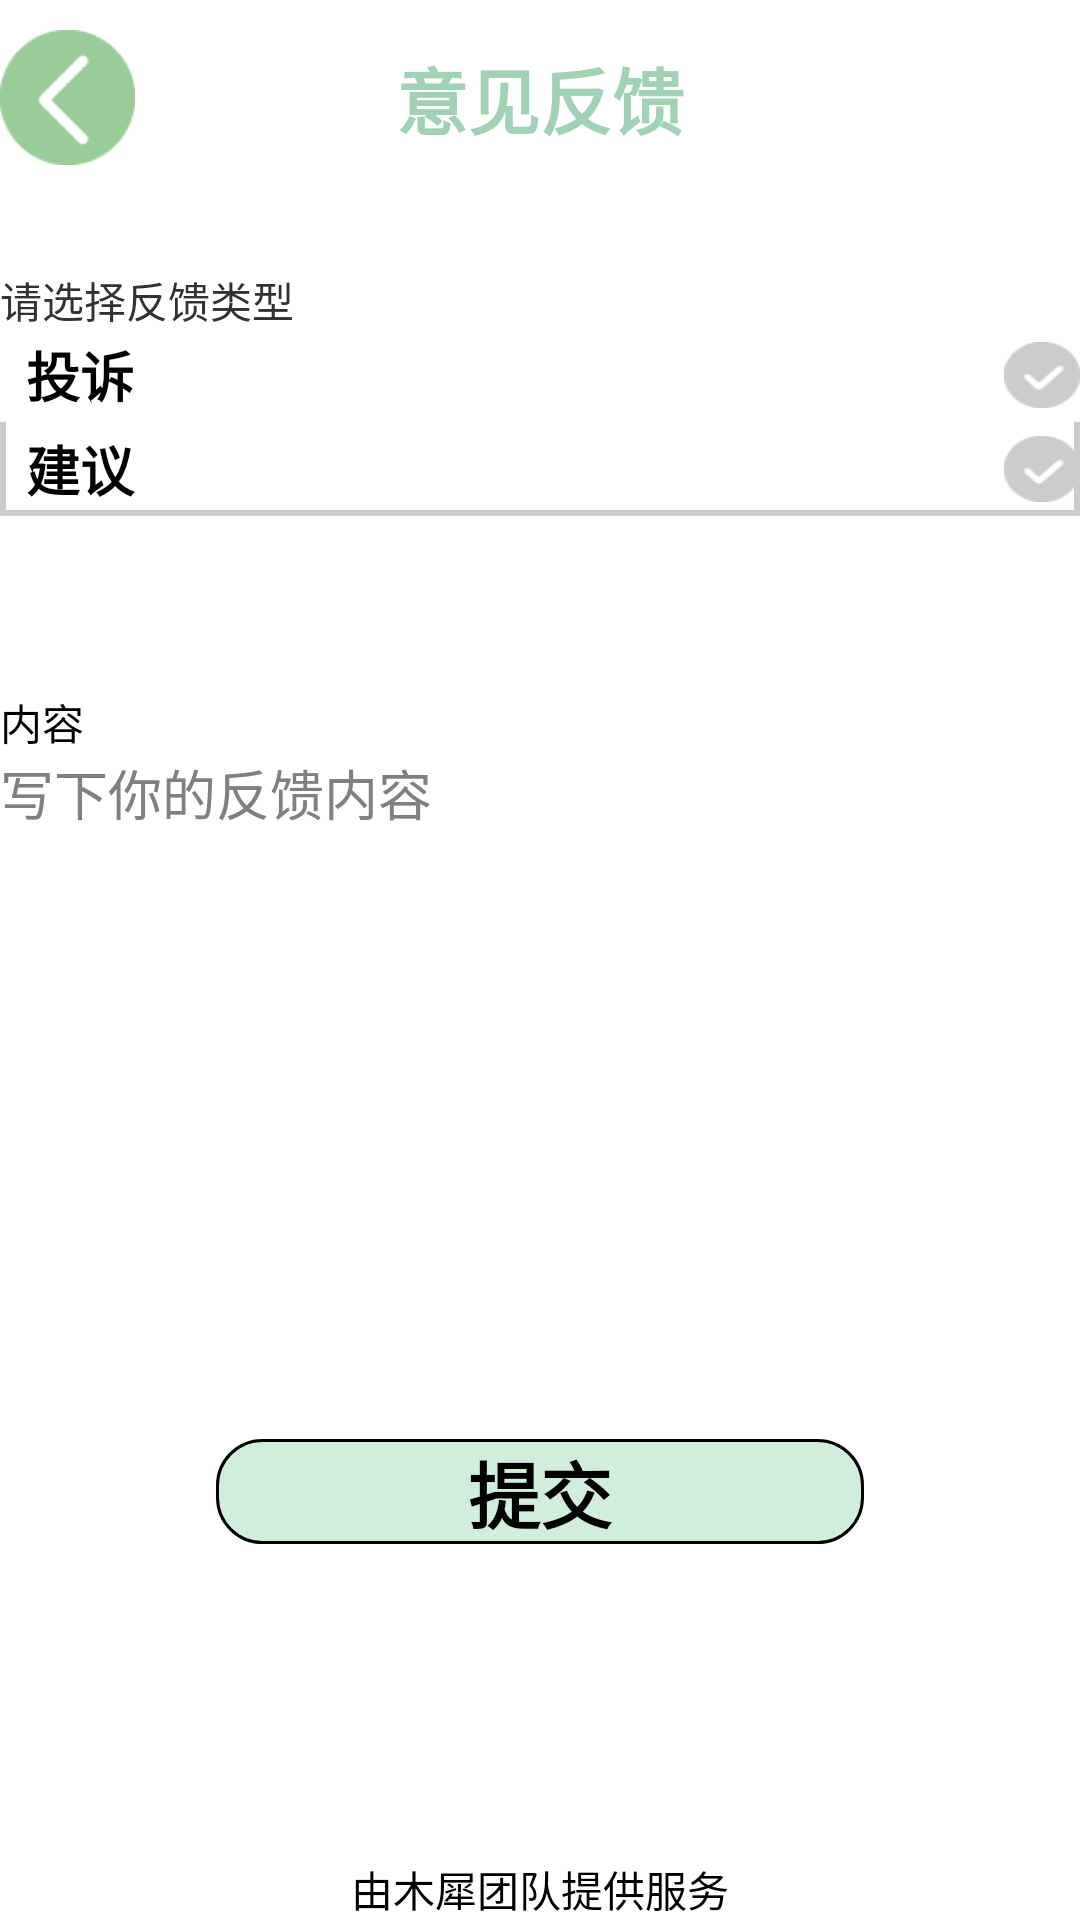

Icons on this 1080px×1920px Android screen, each with the point to tap as point (x, y):
arrow back: point (67, 97)
checked no: point (1042, 375), point (1042, 469)
